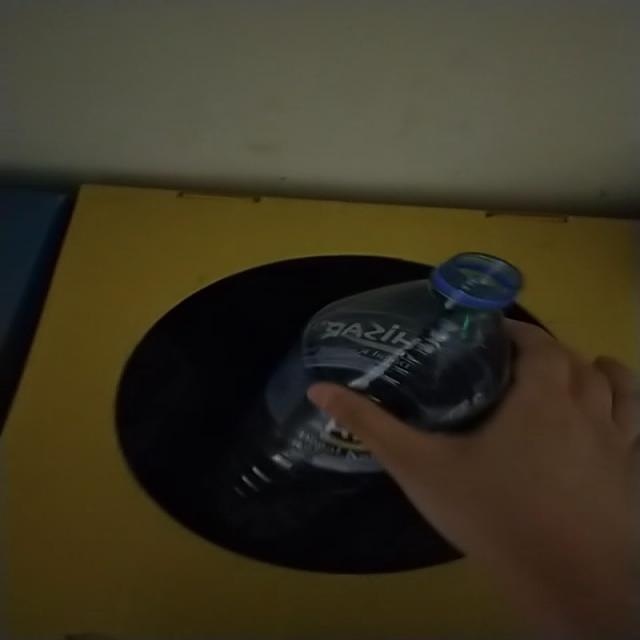plastic: (301, 252, 523, 432), (273, 407, 379, 473)
